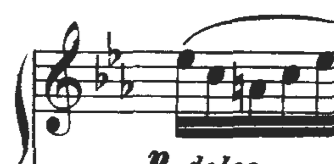flat: (116, 62, 137, 101), (90, 53, 109, 94), (105, 29, 123, 72)
treble_clef: (41, 16, 84, 141)
